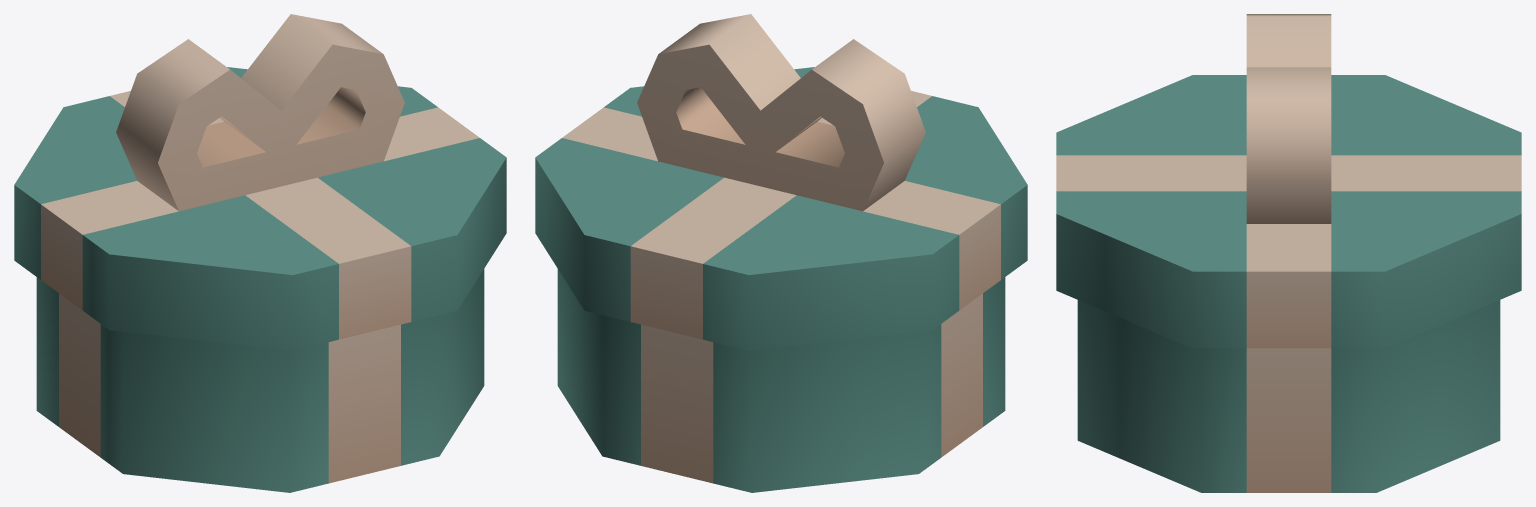
Rendered from present_b.glb.
The picture shows the model from 3 angles, left to right: view 1: azimuth 30°, elevation 25°; view 2: azimuth 150°, elevation 25°; view 3: azimuth 270°, elevation 25°; orthographic projection.
Parts seen in each view (by area): view 1: present_b; view 2: present_b; view 3: present_b.
Part boxes in pixels (x1,y1,x2,y2): present_b: [14, 14, 506, 492]; present_b: [535, 14, 1027, 492]; present_b: [1056, 14, 1521, 492].
Bounding box in the file's own units: 9.33 × 8 × 9.33.
